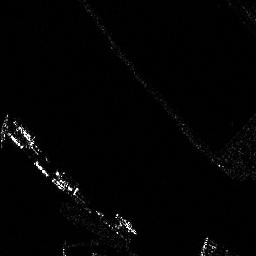ship: (11, 121, 40, 153)
